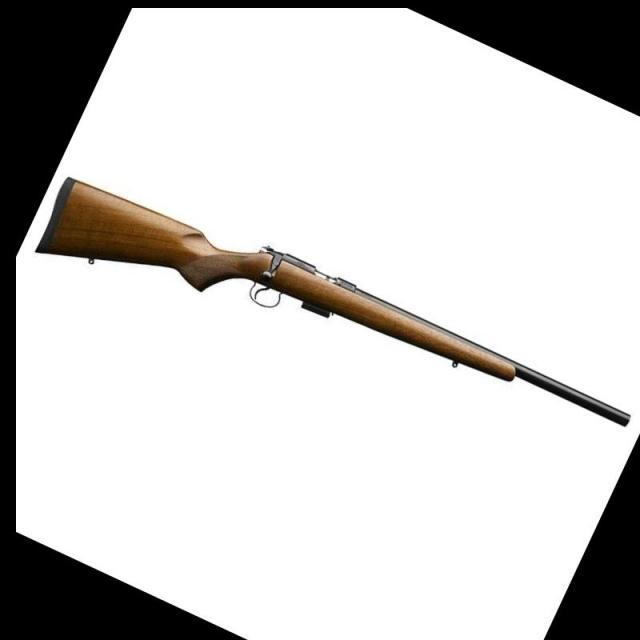weapon: (32, 176, 634, 430)
